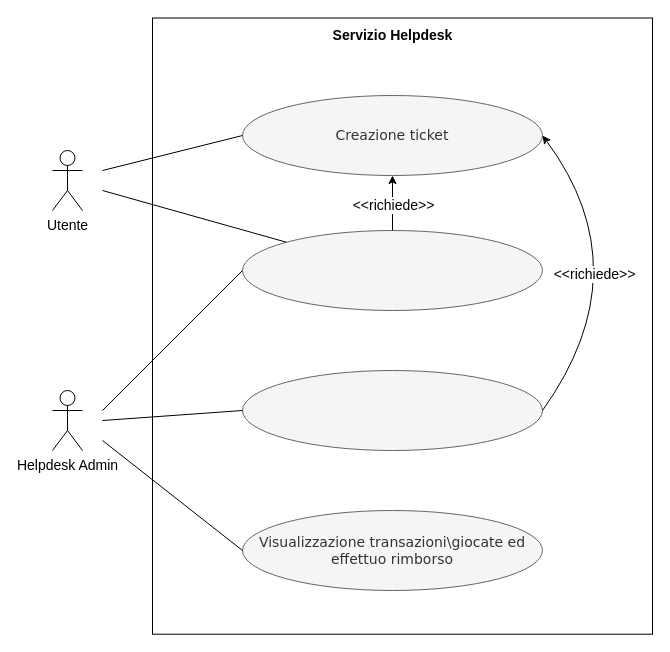
The diagram is 670 pixels wide and 652 high, and some of its shapes have lost their labels. Here are the shapes that lost their labels. From the top down, the centre of each, then its label:
At (392,270): "Invio messaggi e gestione chat".
At (392,410): "Presa a carico di un ticket".
